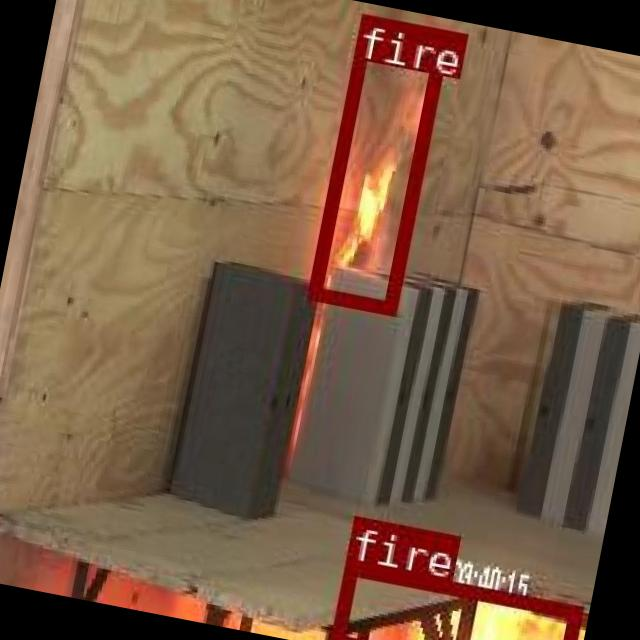fire: (306, 12, 448, 312), (329, 559, 579, 640)
